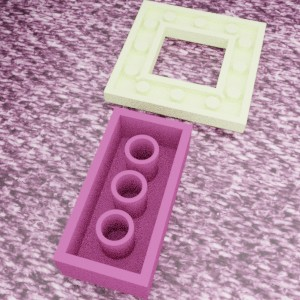lego: (52, 106, 192, 299), (103, 0, 266, 132)
